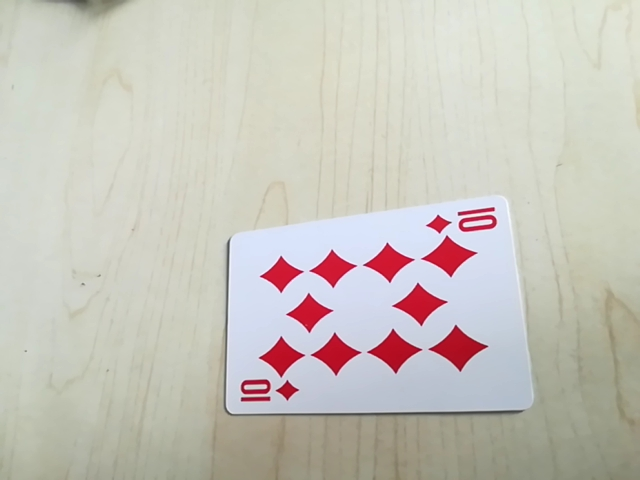fk 10: (424, 200, 503, 238), (233, 376, 301, 411)
